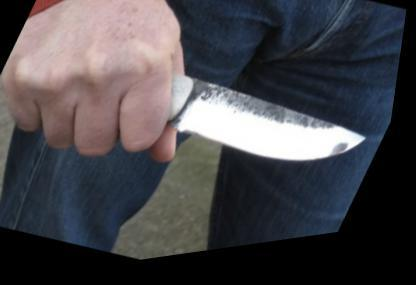knife: (22, 4, 401, 260)
